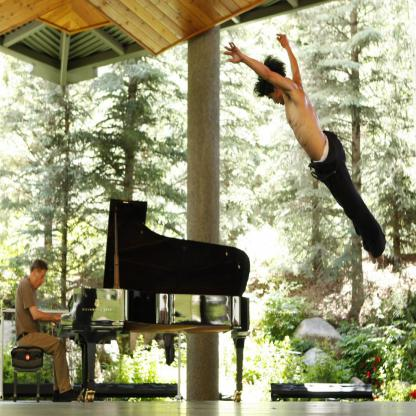face: (266, 86, 286, 107), (34, 272, 48, 290)
